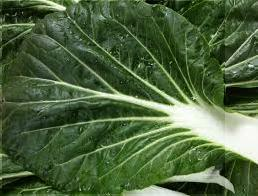Healthy-Pechay: (4, 4, 255, 181)
